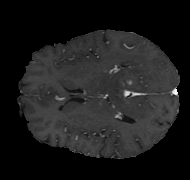Edema: (102, 51, 159, 119)
EnhancingTumors: (123, 75, 134, 85)
Necrosis: (127, 79, 132, 80)
